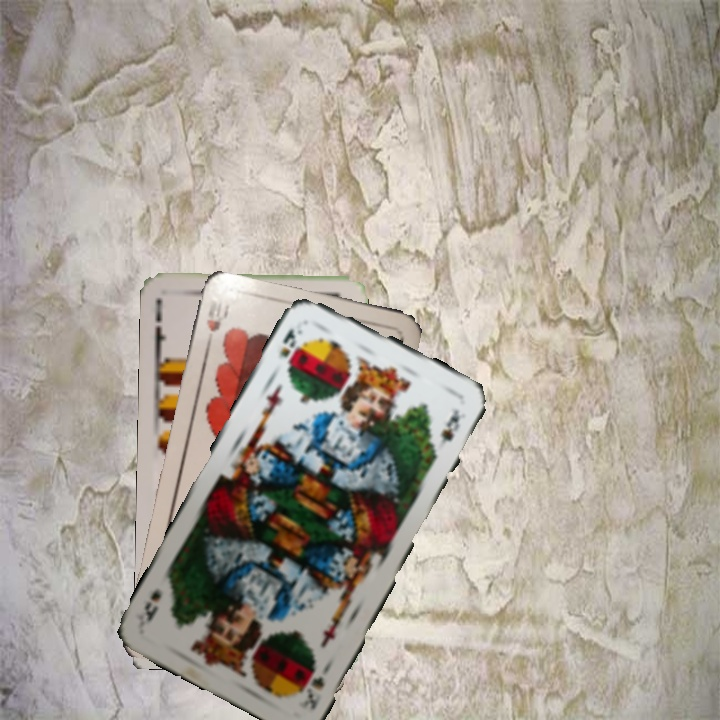E7: (150, 294, 169, 353)
H10: (202, 292, 231, 352)
SK: (294, 659, 334, 713), (276, 324, 306, 361)
